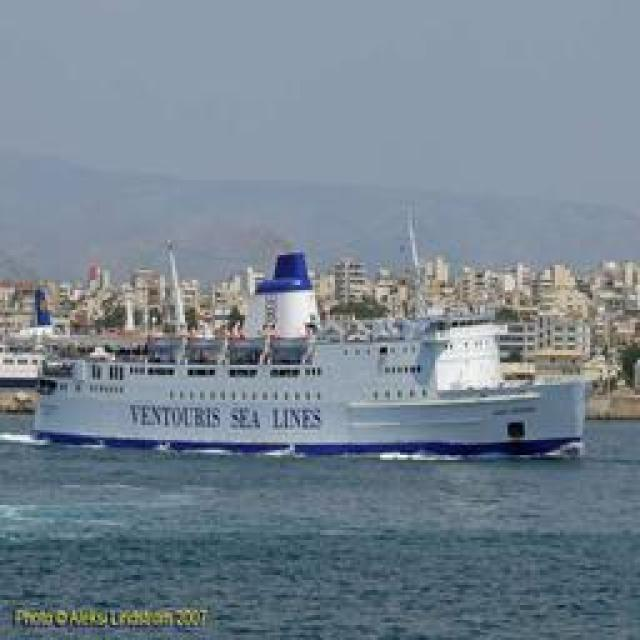Ship: (28, 248, 594, 467)
